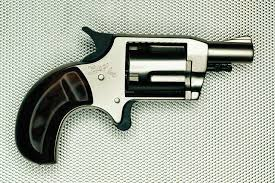gun: (16, 25, 261, 169)
